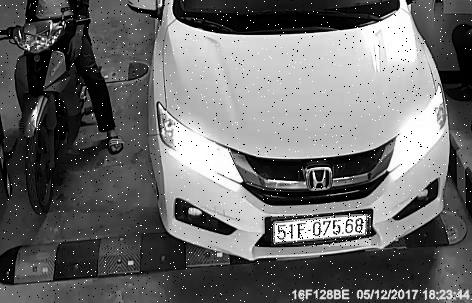License-plate: (272, 215, 372, 247)
